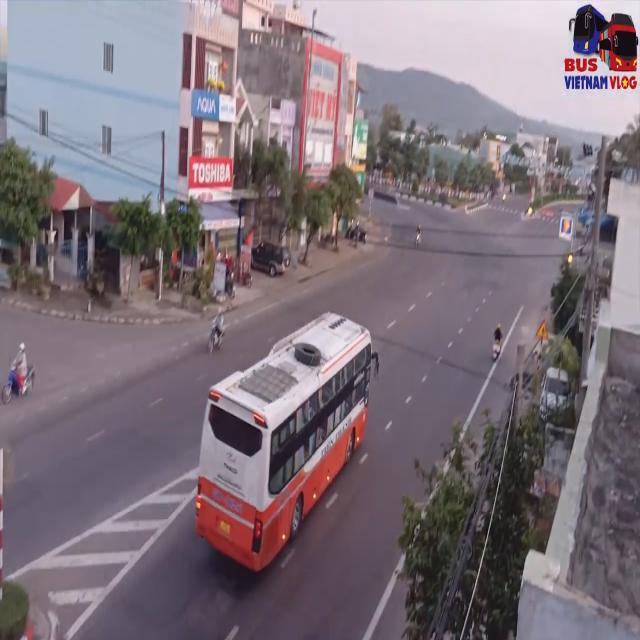bus: (194, 309, 377, 575)
motorbike: (4, 340, 33, 407), (206, 306, 227, 350), (492, 321, 503, 360)
truck: (559, 4, 638, 90)
